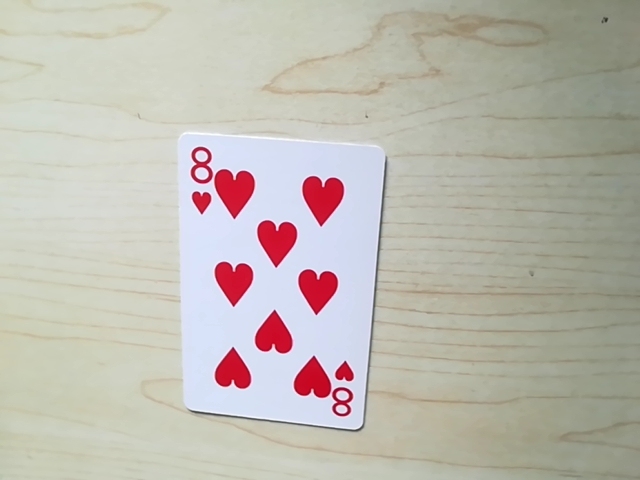hx 8: (321, 368, 361, 426), (181, 138, 216, 177)
